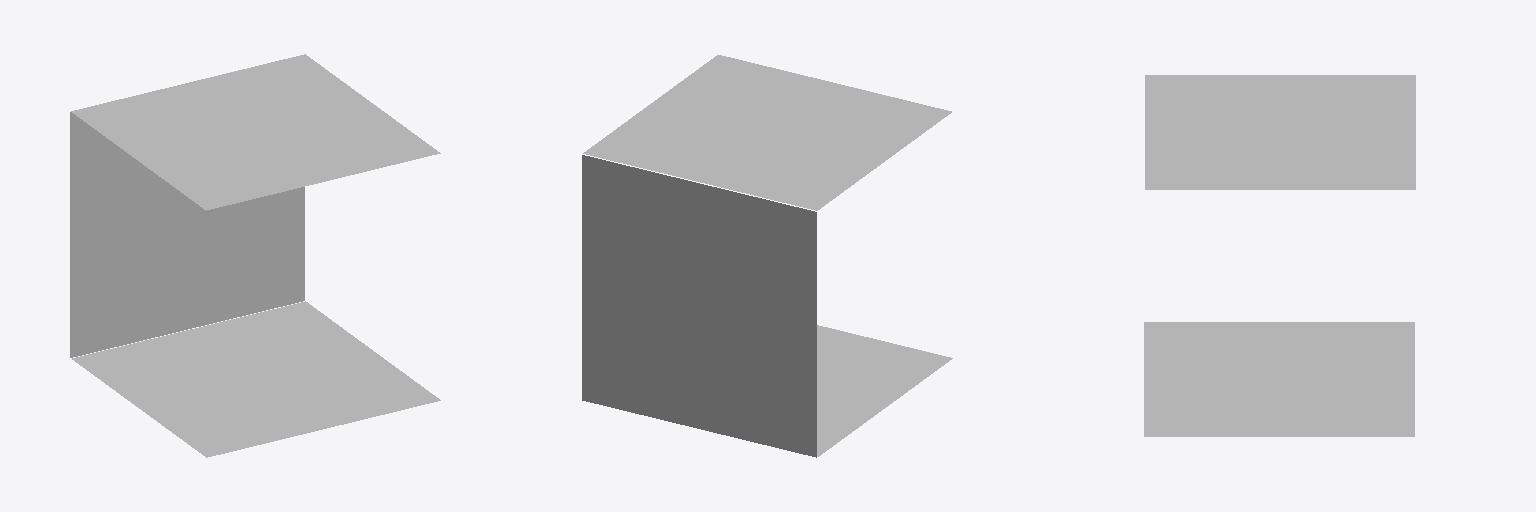
The model's file is CornellDiffuse2.obj.
3 renders of one model, left to right at view 1: azimuth 30°, elevation 25°; view 2: azimuth 150°, elevation 25°; view 3: azimuth 270°, elevation 25°, orthographic.
Parts seen in each view (by area): view 1: pPlane3, pPlane2, pPlane1; view 2: pPlane3, pPlane2, pPlane1; view 3: pPlane2, pPlane1.
Boxes of the visible parts, x1=… form: pPlane3: x1=70, y1=112, x2=304, y2=357; pPlane2: x1=71, y1=54, x2=440, y2=210; pPlane1: x1=72, y1=301, x2=440, y2=457; pPlane3: x1=582, y1=155, x2=816, y2=457; pPlane2: x1=583, y1=55, x2=951, y2=210; pPlane1: x1=817, y1=325, x2=952, y2=456; pPlane2: x1=1145, y1=75, x2=1415, y2=189; pPlane1: x1=1144, y1=322, x2=1414, y2=436.
Bounding box in the file's own units: 5.48 × 5.51 × 5.5.